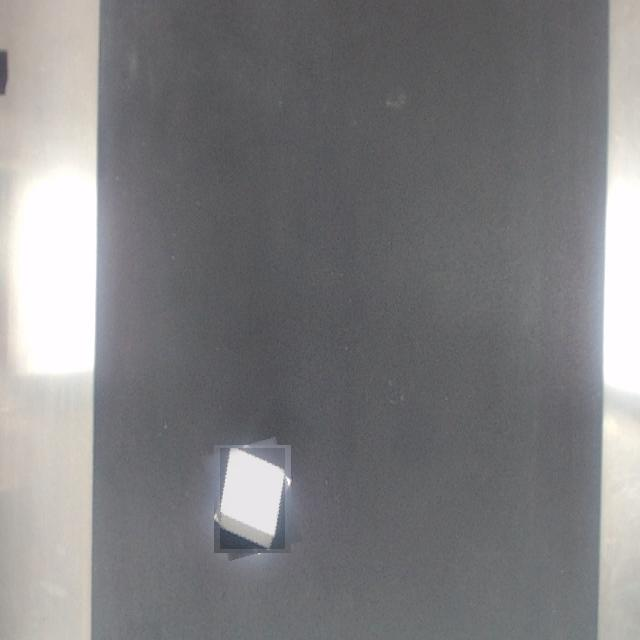Blanco: (220, 448, 285, 549)
